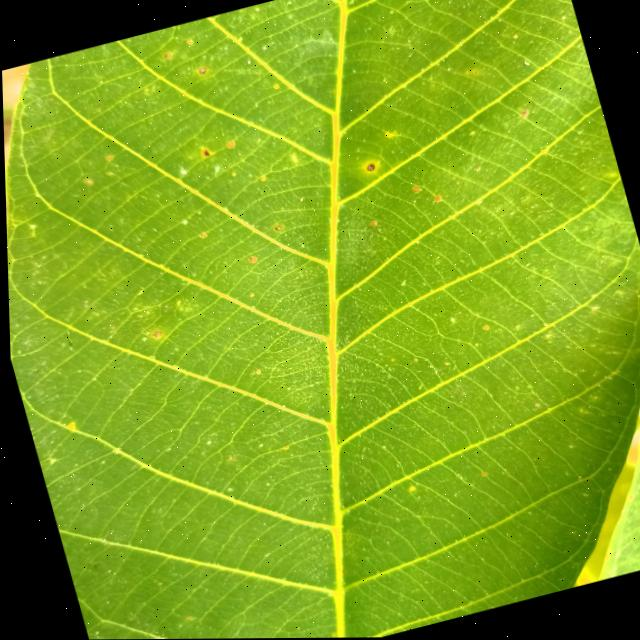Colletotrichum: (365, 164, 374, 172), (273, 225, 280, 232)
